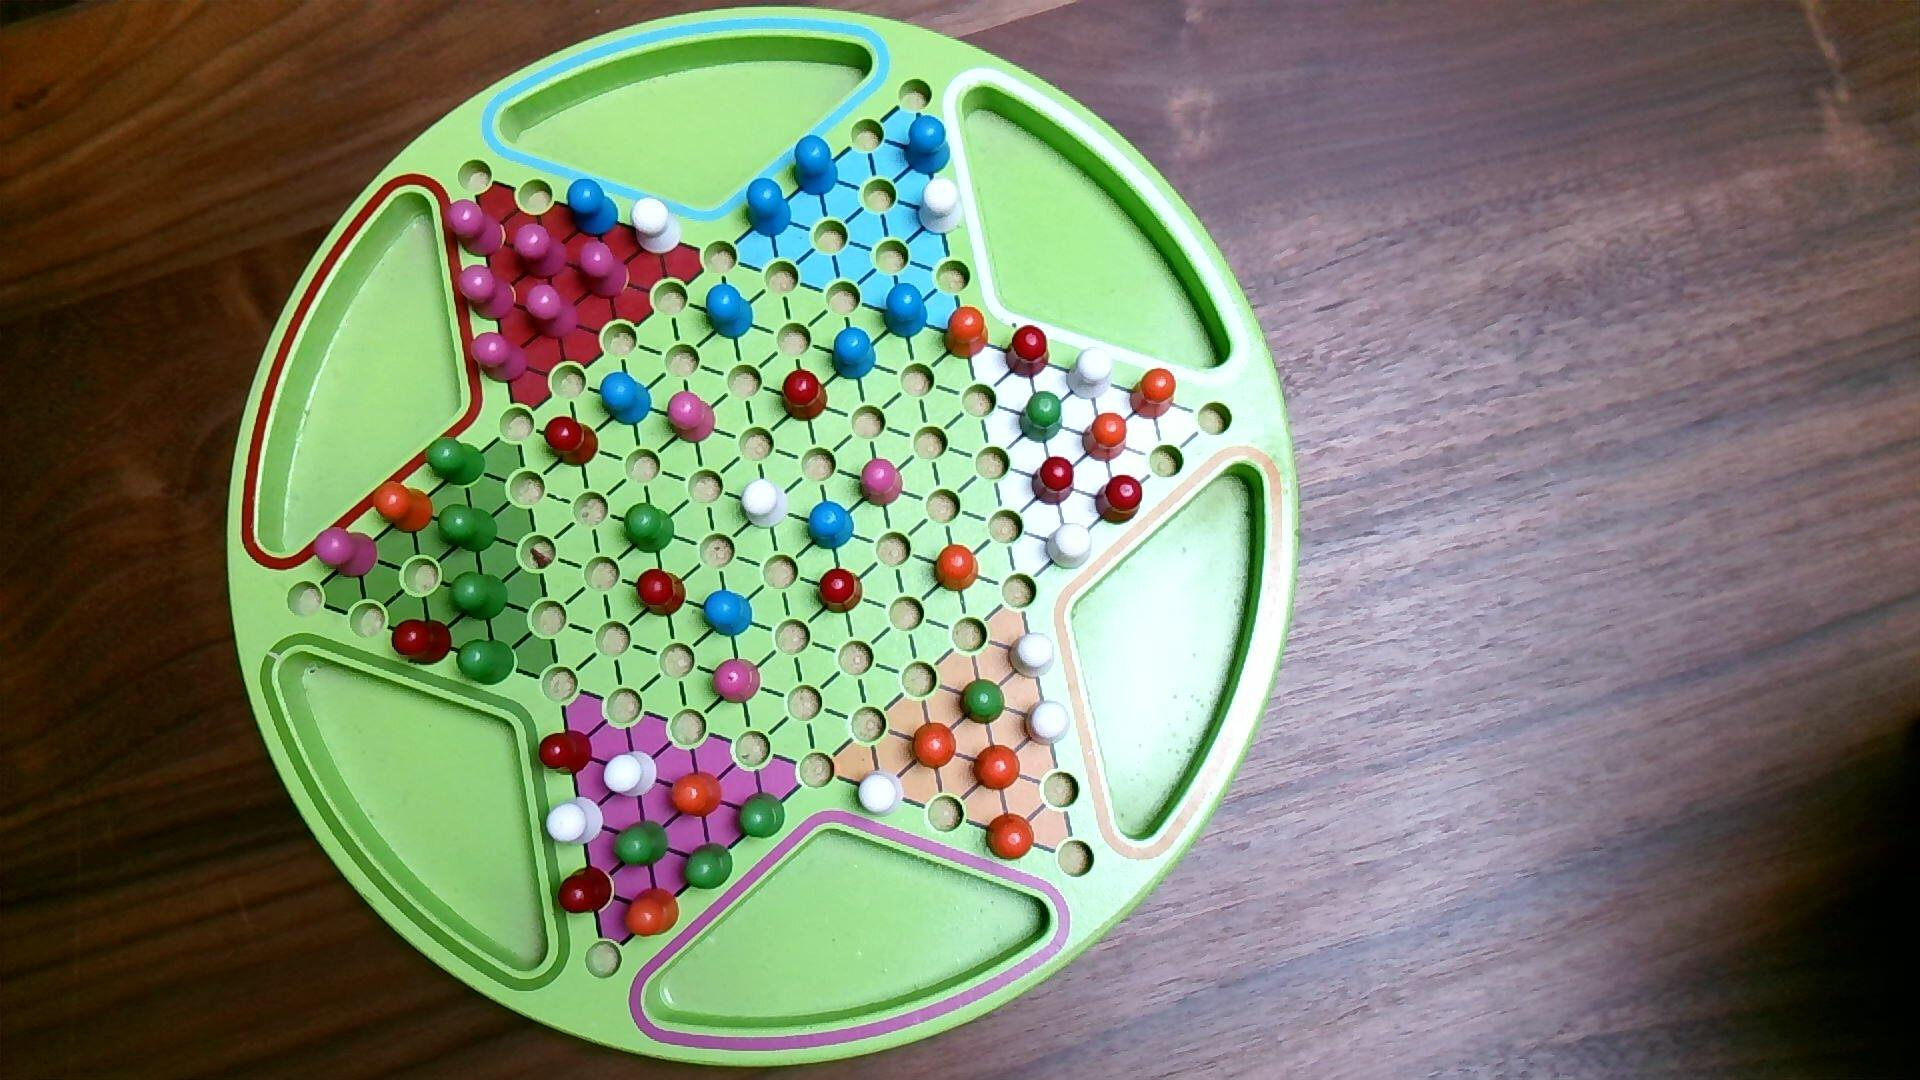B: (564, 178, 621, 239), (902, 113, 953, 177), (791, 135, 841, 198), (744, 177, 794, 240), (599, 371, 653, 429), (705, 284, 756, 342), (881, 282, 930, 342), (829, 326, 880, 382), (806, 498, 856, 553), (702, 589, 756, 640)
G: (436, 502, 500, 555), (423, 436, 488, 488), (448, 570, 510, 622), (612, 819, 671, 870), (456, 638, 517, 688), (622, 502, 676, 556), (736, 790, 789, 841), (682, 843, 735, 891), (1018, 390, 1065, 444), (957, 676, 1007, 727)
O: (372, 480, 435, 535), (622, 886, 680, 939), (1127, 367, 1179, 422), (942, 305, 992, 361), (669, 771, 724, 820), (971, 742, 1023, 793), (984, 812, 1036, 862), (1081, 411, 1130, 464), (910, 720, 959, 771), (934, 543, 981, 593)
R: (390, 618, 454, 669), (543, 415, 601, 469), (556, 865, 616, 916), (779, 368, 829, 425), (634, 567, 688, 618), (1095, 473, 1145, 527), (538, 729, 595, 777), (1005, 324, 1052, 378), (1030, 455, 1077, 508), (816, 567, 865, 616)
R2: (442, 198, 506, 260), (311, 526, 381, 580), (456, 262, 517, 323), (575, 240, 632, 302), (512, 223, 571, 281), (469, 330, 530, 386), (524, 284, 580, 342), (666, 390, 717, 444), (708, 657, 764, 707), (858, 458, 906, 510)
W: (629, 196, 684, 257), (545, 796, 607, 848), (916, 175, 967, 237), (1065, 345, 1116, 404), (603, 750, 659, 800), (740, 477, 791, 531), (855, 769, 907, 820), (1007, 630, 1058, 680), (1044, 522, 1095, 572), (1023, 699, 1073, 748)
